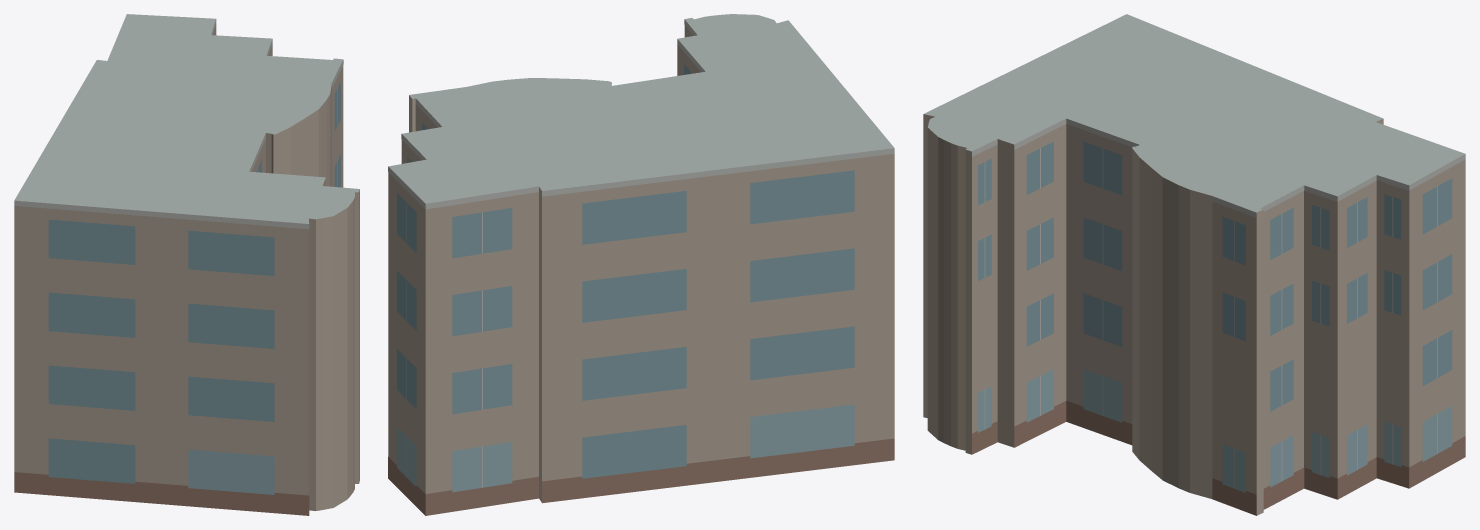
File: survey-upis-32961151.glb
3 views of the same model, side by side, from view 1: azimuth 30°, elevation 25°; view 2: azimuth 150°, elevation 25°; view 3: azimuth 270°, elevation 25° (orthographic). The views are drawn at different scales.
Parts seen in each view (by area): view 1: survey-upis-32961151.tmp; view 2: survey-upis-32961151.tmp; view 3: survey-upis-32961151.tmp.
Boxes of the visible parts, bbox=[...] form: survey-upis-32961151.tmp: bbox=[14, 14, 359, 515]; survey-upis-32961151.tmp: bbox=[388, 14, 894, 515]; survey-upis-32961151.tmp: bbox=[923, 14, 1465, 515].
Bounding box in the file's own units: 19.32 × 13.75 × 22.29.
